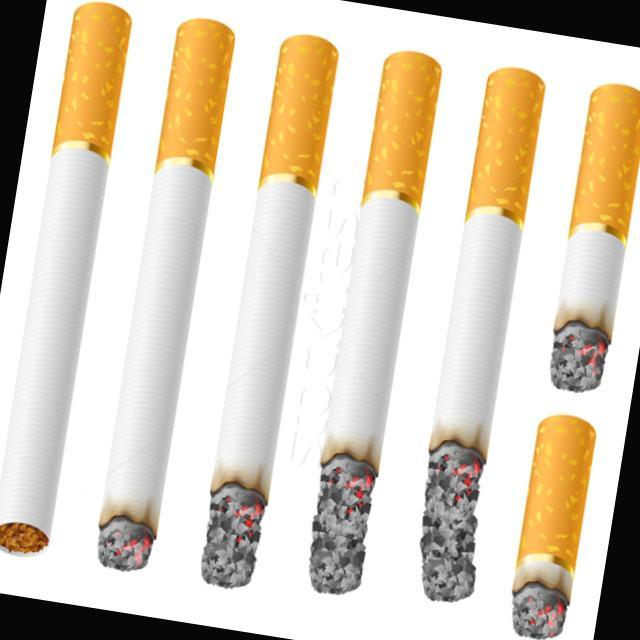cigarette: (178, 21, 351, 601), (78, 8, 245, 579), (0, 0, 140, 560)
